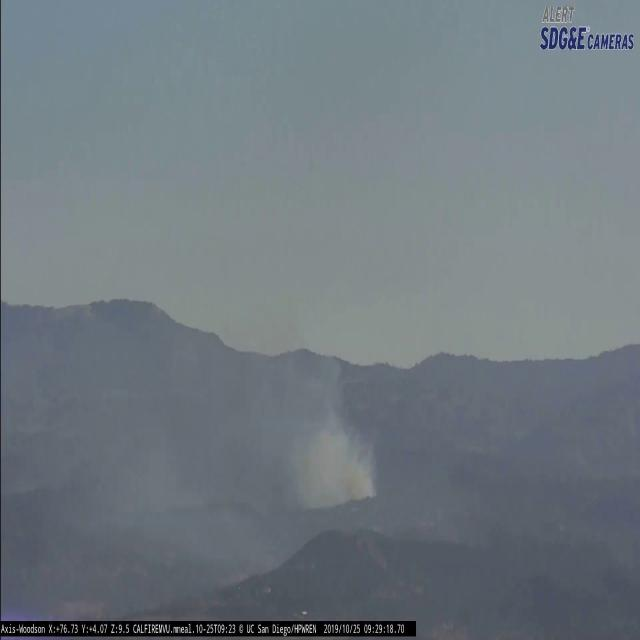smoke: (156, 301, 378, 582), (30, 292, 155, 538)
